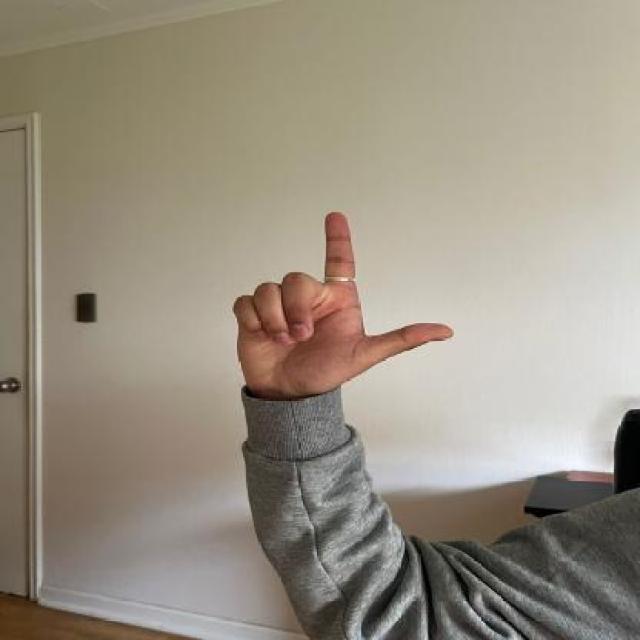L: (225, 207, 458, 395)
